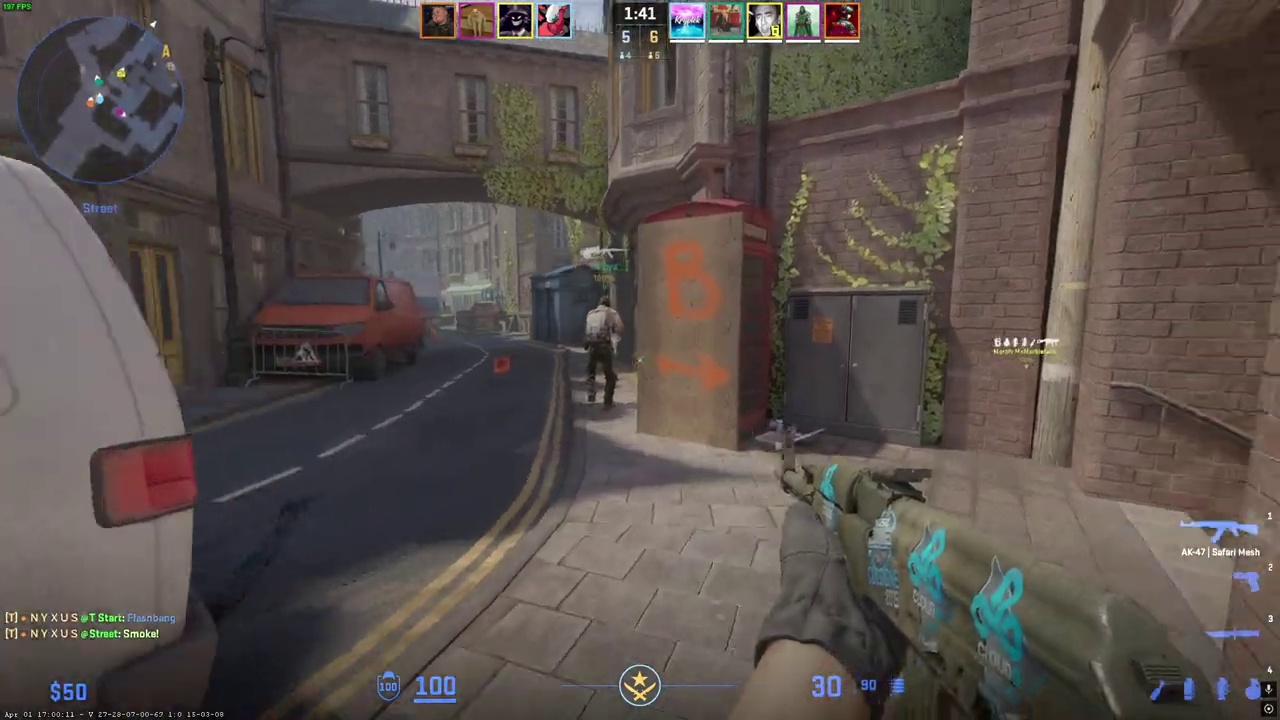Terrorist: (584, 295, 625, 410)
